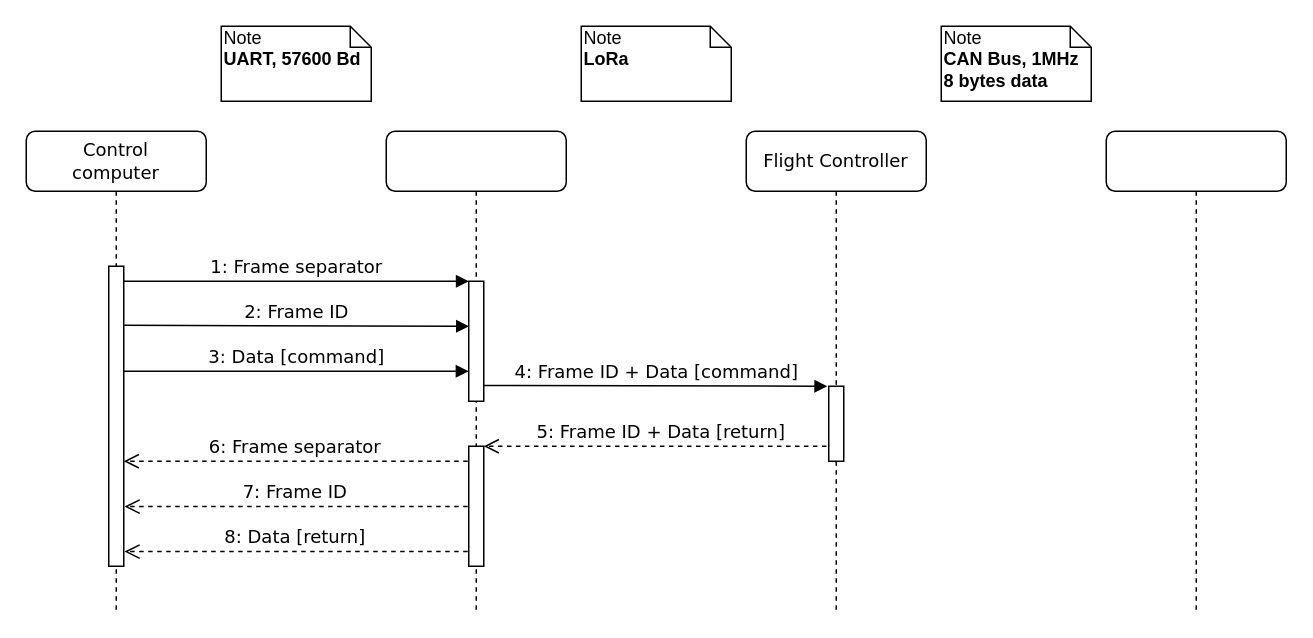
Some shapes in this 1313 by 638 pixel diagram are drawn without their labels. The box of each missing label's shape, as (x1, y1, x2, y2) in pixels:
Engine Computer: (1105, 130, 1286, 611)
Flight Controller gateway: (385, 130, 566, 611)
